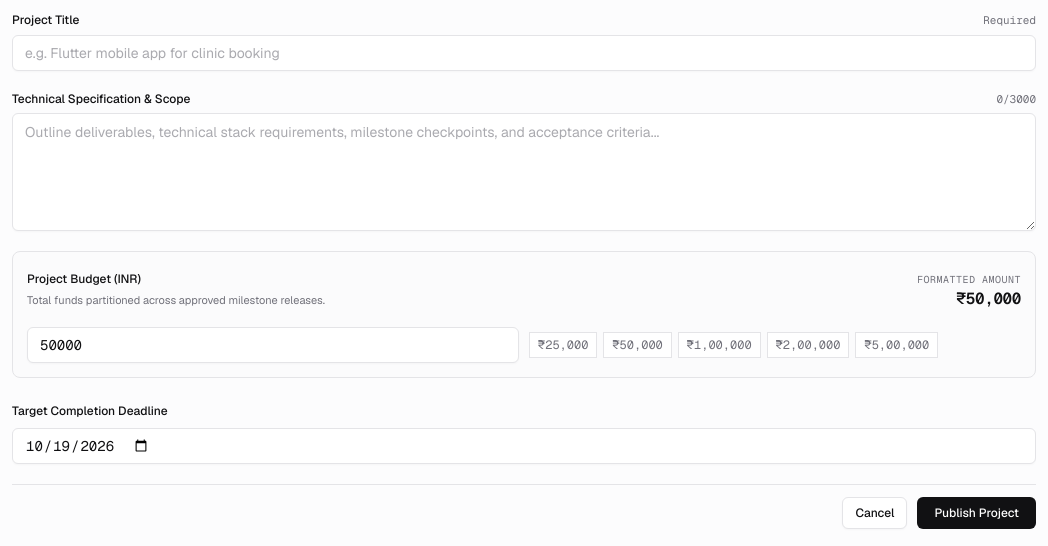
Scenario: ProjectForm component and interactions › updates budget input and formatted preview when clicking budget preset chip
Step 1. Click the button "₹2,00,000" → (808, 345), box [767,332,849,358]
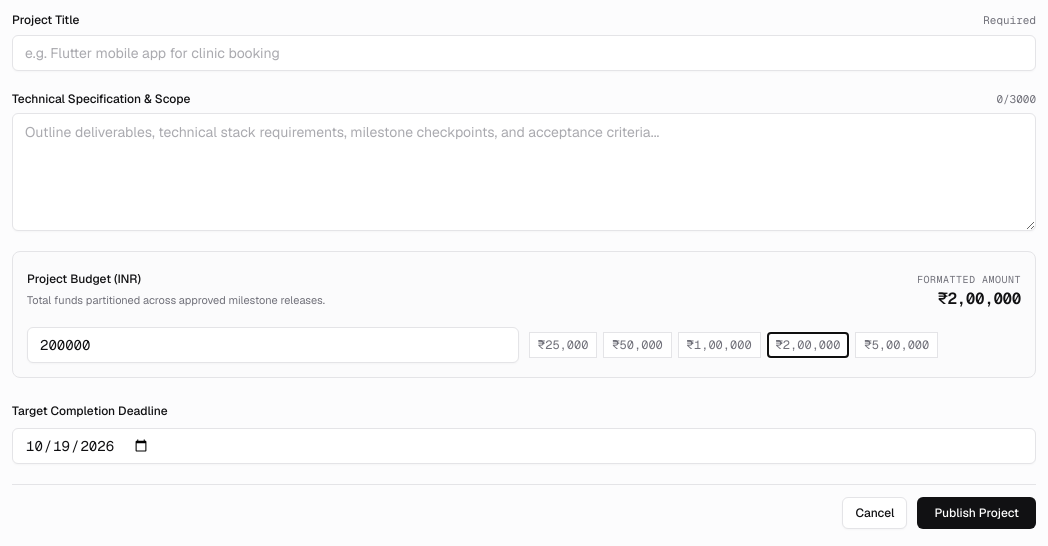
Result: the number field labelled "Project Budget (INR)" holds "200000" at [27,327,519,363]
